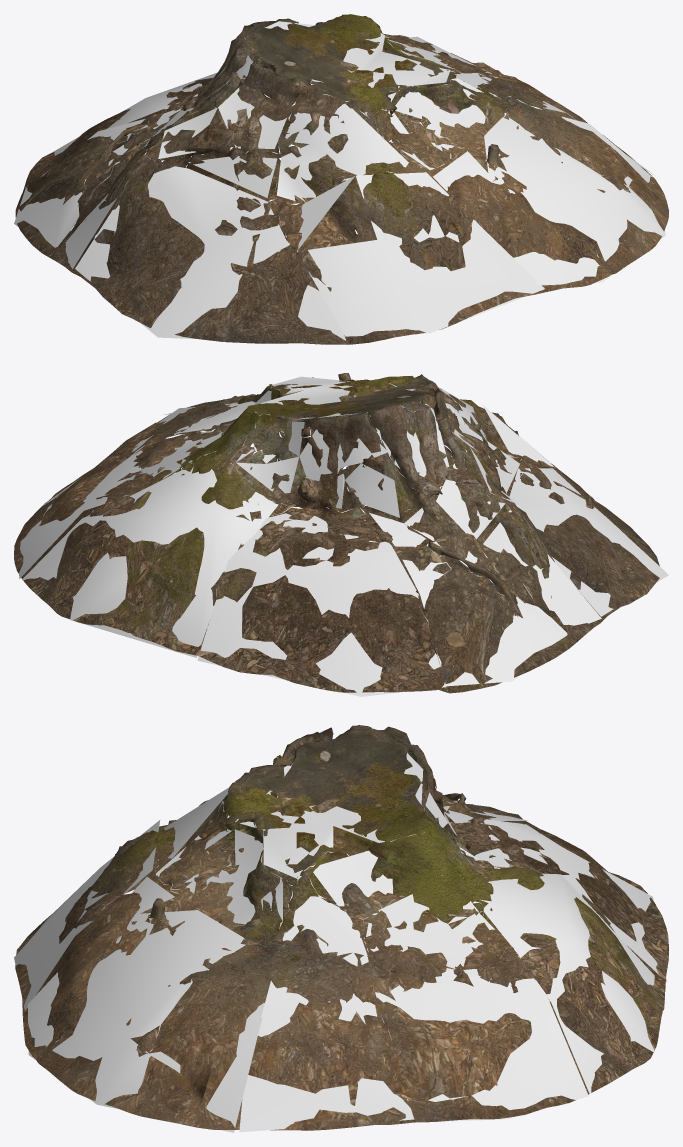
File: ph_tree_stump_02.glb
The picture shows the model from 3 angles, top to bottom: view 1: azimuth 30°, elevation 25°; view 2: azimuth 150°, elevation 25°; view 3: azimuth 270°, elevation 25°; orthographic projection. The views are drawn at different scales.
Visible parts, largest first — view 1: ph_tree_stump_02, ph_tree_stump_02_col; view 2: ph_tree_stump_02, ph_tree_stump_02_col; view 3: ph_tree_stump_02, ph_tree_stump_02_col.
Part boxes in pixels (x1,y1,x2,y2): ph_tree_stump_02: (15,14,668,344); ph_tree_stump_02_col: (14,21,665,344); ph_tree_stump_02: (14,373,659,693); ph_tree_stump_02_col: (19,376,668,696); ph_tree_stump_02: (15,725,668,1130); ph_tree_stump_02_col: (14,753,667,1132).
Bounding box in the file's own units: 1.52 × 0.5255 × 1.39.
1 material, 1 textured.
